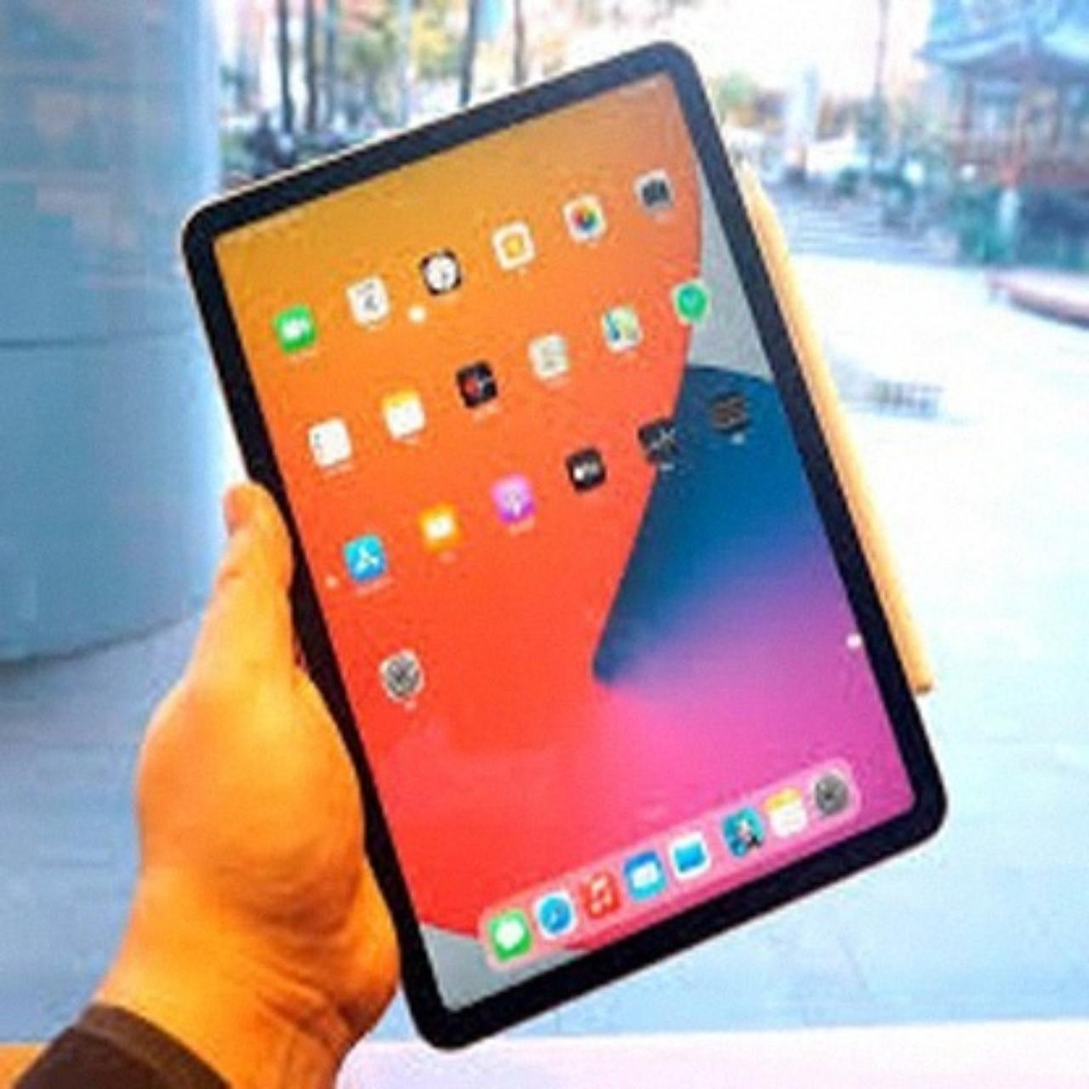Tablet_PC: (176, 48, 937, 1055)
